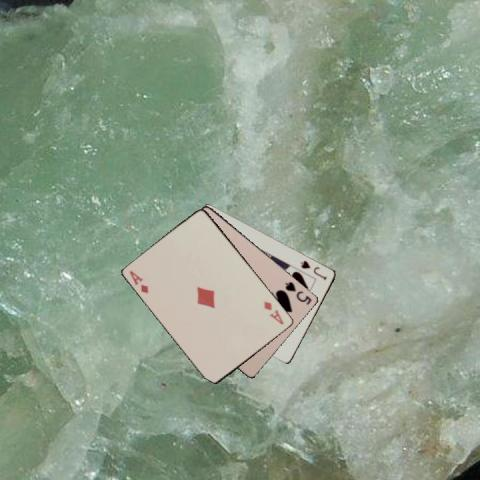5s: (282, 279, 313, 306)
Ad: (262, 298, 286, 326), (127, 267, 150, 295)
Js: (297, 257, 329, 282)
